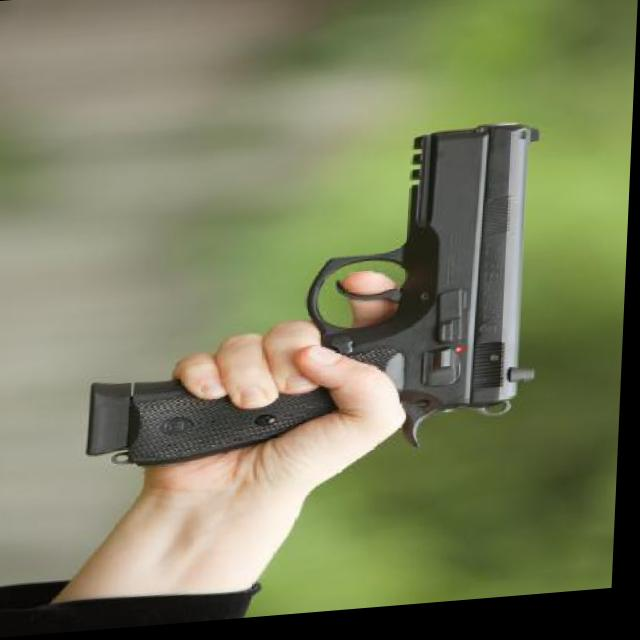handgun: (88, 132, 546, 474)
